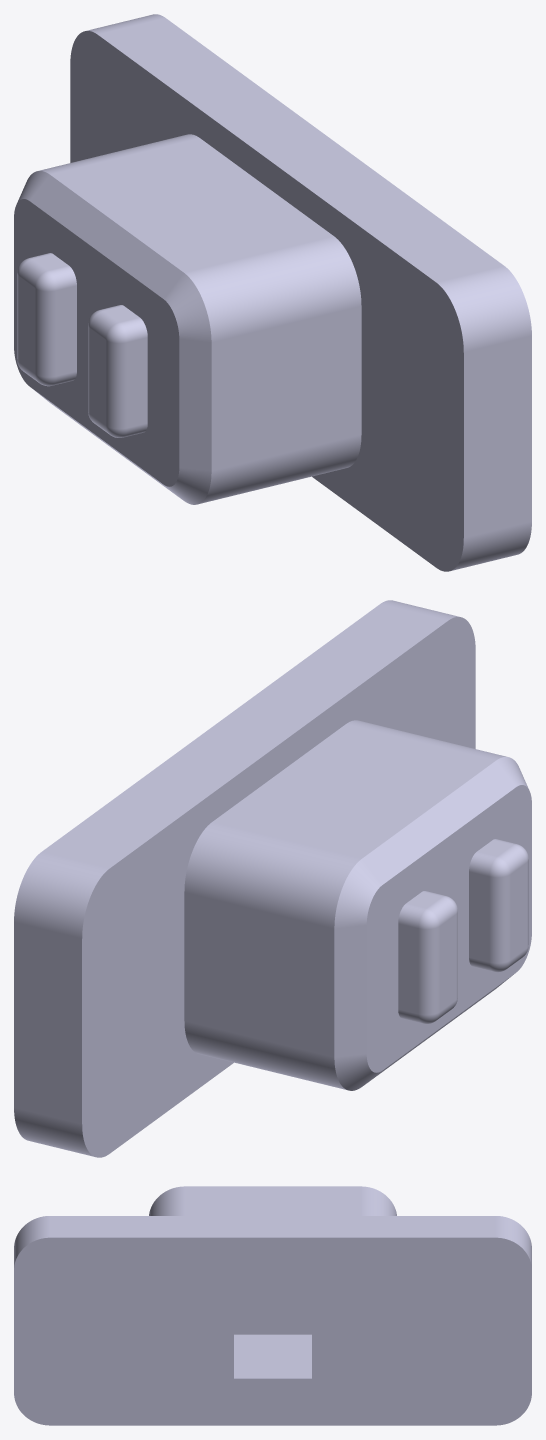
File: Keyboard-SwitchPad.gltf
3 views of the same model, one above another, from view 1: azimuth 30°, elevation 25°; view 2: azimuth 150°, elevation 25°; view 3: azimuth 270°, elevation 25° (orthographic). The views are drawn at different scales.
Parts seen in each view (by area): view 1: Switch; view 2: Switch; view 3: Switch.
Part boxes in pixels (x1,y1,x2,y2): Switch: (14,14,531,571); Switch: (14,600,531,1157); Switch: (14,1186,531,1425).
Bounding box in the file's own units: 0.004 × 0.004 × 0.01.
